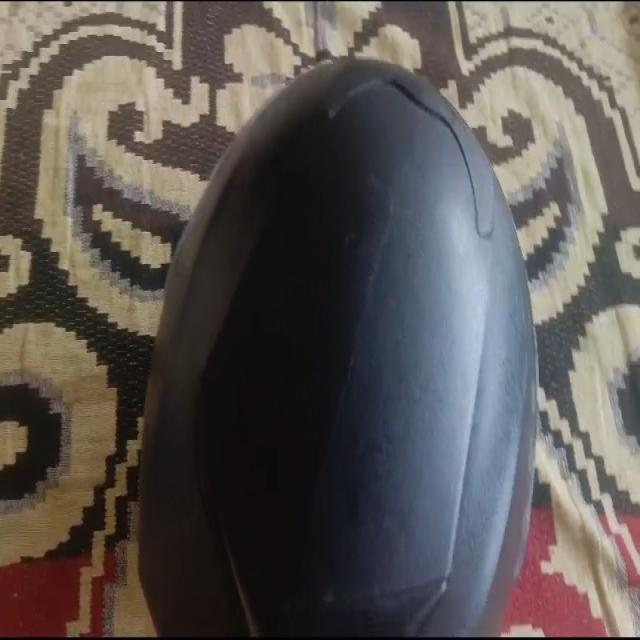Helmet: (131, 55, 541, 640)
